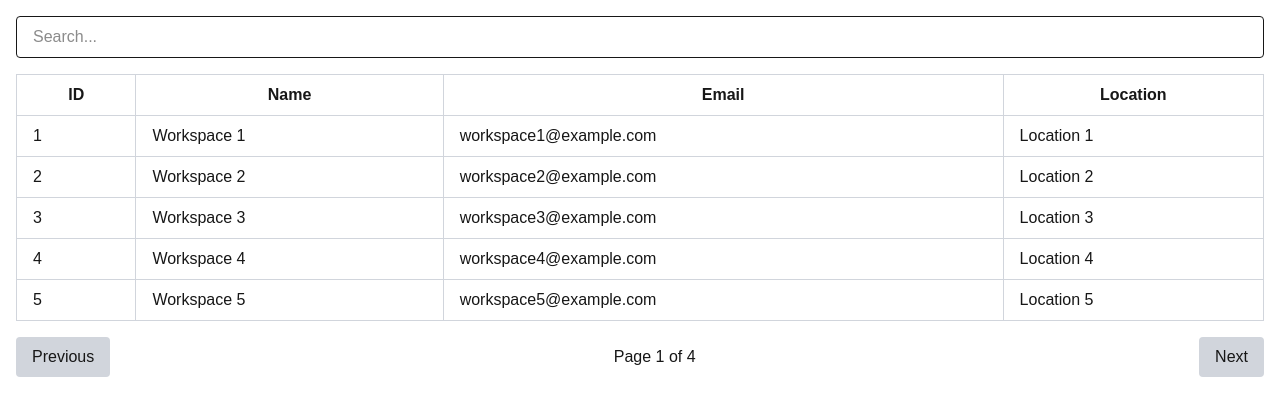
Test: WorkspacesTable › displays workspace data and supports pagination
Expected: the text "Workspace 1" is shown, top-left (136, 116), bottom-right (443, 156)
Expected: the text "Workspace 6" is not shown
Navigate to the next page
Click the button "Next" at (1232, 357), box top-left (1199, 337), bottom-right (1264, 377)
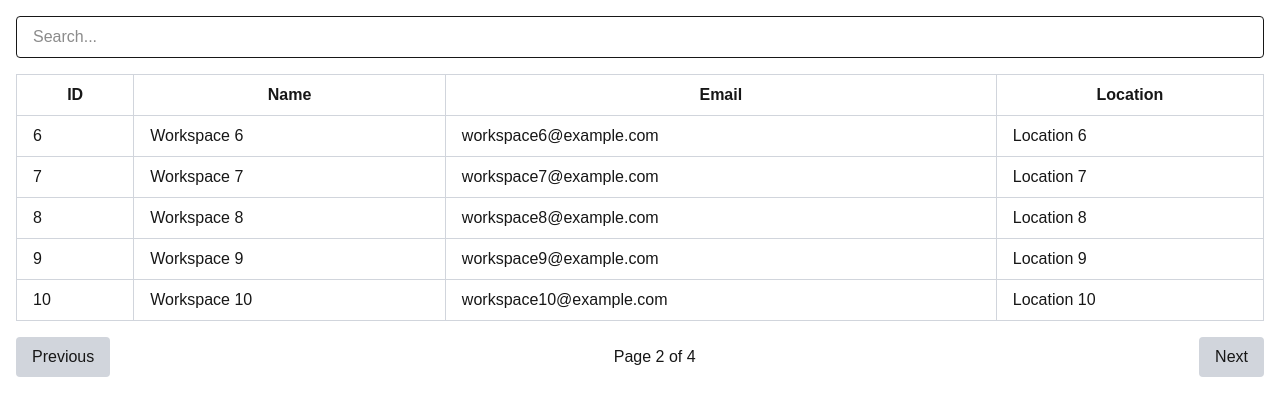
Expected: the text "Workspace 6" is shown, top-left (134, 116), bottom-right (445, 156)
